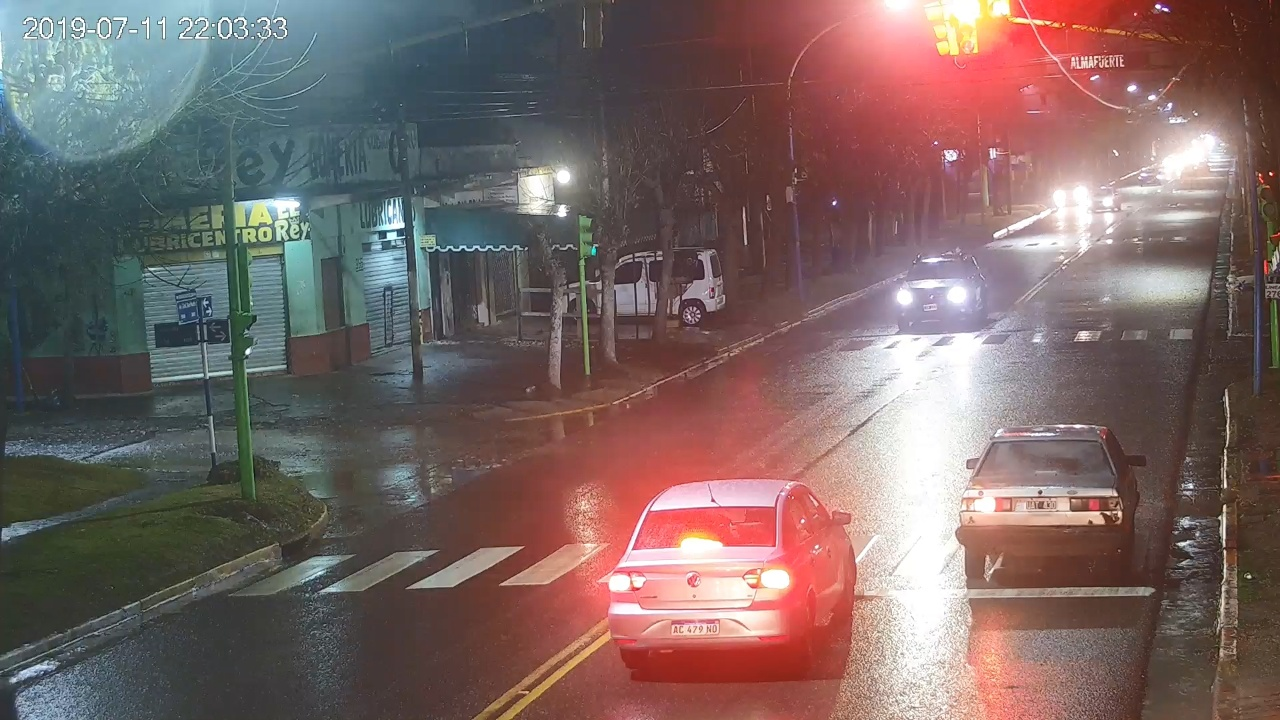car: (607, 478, 857, 664), (955, 426, 1146, 578)
traffic light: (956, 1, 981, 54)
